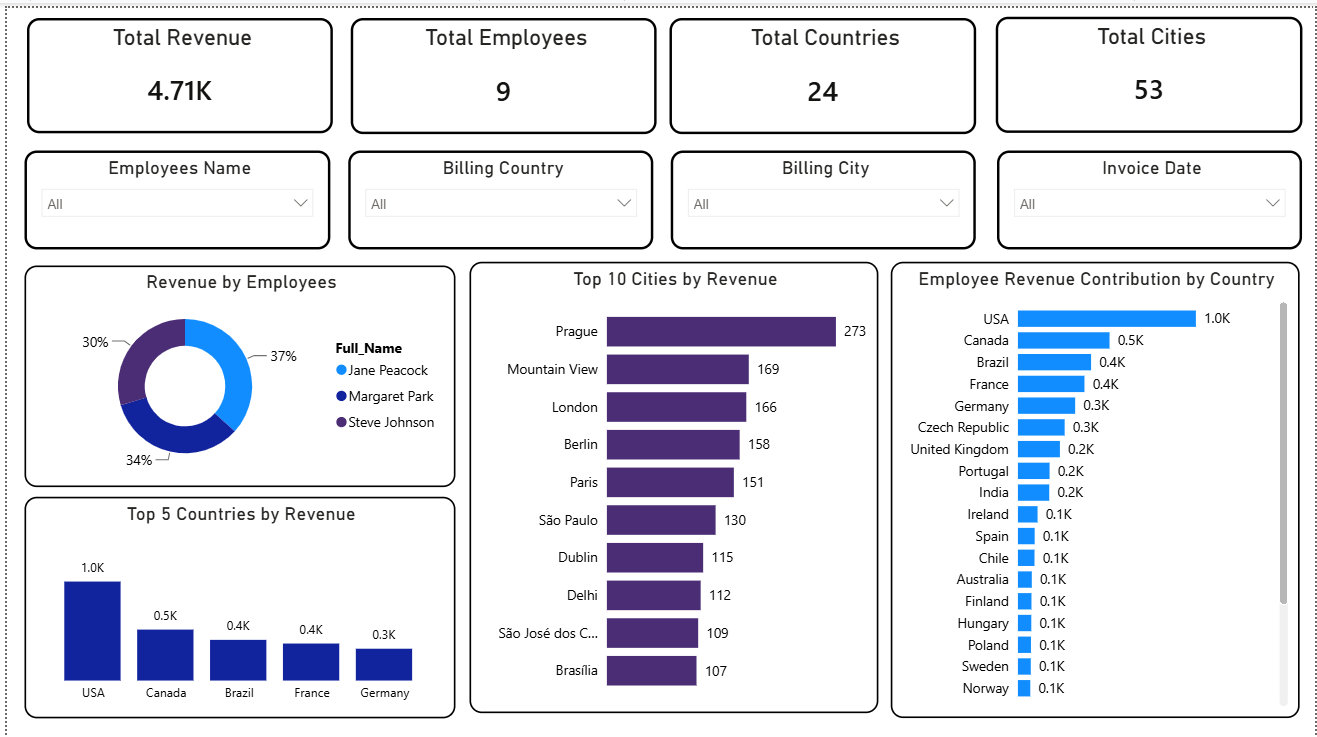

The dashboard page shown, as its layout file describes it:
{"tool":"powerbi","page":{"name":"4. Employee & Geographic Performance","canvas":[1280,720],"ordinal":3},"visuals":[{"type":"cardVisual","title":"Total Revenue","fields":{"Data":["invoice.Total Revenue"]},"box":[19.3,9.2,299.6,112.5],"z":0},{"type":"cardVisual","title":"Total Employees","fields":{"Data":["employee.Total Employees"]},"box":[336,9.2,299.6,113.7],"z":1000},{"type":"cardVisual","title":"Total Countries","fields":{"Data":["invoice.Total Countries"]},"box":[648.4,10.2,300.1,114],"z":2000},{"type":"cardVisual","title":"Total Cities","fields":{"Data":["invoice.Total Cities"]},"box":[967.2,8.8,300.1,114],"z":3000},{"type":"slicer","title":"Billing Country","fields":{"Values":["invoice.billing_country"]},"box":[333.7,139.6,298.7,96.7],"z":4000},{"type":"slicer","title":"Employees Name","fields":{"Values":["employee.Full_Name"]},"box":[17.7,139.6,299,96.7],"z":5000},{"type":"slicer","title":"Billing City","fields":{"Values":["invoice.billing_city"]},"box":[649.6,139.6,298.7,96.7],"z":6000},{"type":"slicer","title":"Invoice Date","fields":{"Values":["invoice.invoice_date"]},"box":[968.5,139.6,298.7,96.7],"z":7000},{"type":"donutChart","title":"Revenue by Employees","fields":{"Category":["employee.Full_Name"],"Y":["invoice.Total Revenue"]},"box":[17.3,252.5,421.3,216.4],"z":8000},{"type":"clusteredColumnChart","title":"Top 5 Countries by Revenue","fields":{"Category":["invoice.billing_country"],"Y":["invoice.Total Revenue"]},"box":[17.3,477.6,421.3,216.4],"z":9000},{"type":"clusteredBarChart","title":"Top 10 Cities by Revenue","fields":{"Category":["invoice.billing_city"],"Y":["invoice.Total Revenue"]},"box":[452.4,248.2,400,441.4],"z":10000},{"type":"clusteredBarChart","title":"Employee Revenue Contribution by Country","fields":{"Category":["invoice.billing_country"],"Y":["invoice.Total Revenue"]},"box":[864.5,248.2,400,446.3],"z":11000}]}

Visuals, with their boxes in screenshot pixels (x1, y1, x2, y2), scaled from the page's 1280x720 canvas onto the 1317x737 screenshot:
"Total Revenue" cardVisual: l=20, t=9, r=328, b=125
"Total Employees" cardVisual: l=346, t=9, r=654, b=126
"Total Countries" cardVisual: l=667, t=10, r=976, b=127
"Total Cities" cardVisual: l=995, t=9, r=1304, b=126
"Billing Country" slicer: l=343, t=143, r=651, b=242
"Employees Name" slicer: l=18, t=143, r=326, b=242
"Billing City" slicer: l=668, t=143, r=976, b=242
"Invoice Date" slicer: l=996, t=143, r=1304, b=242
"Revenue by Employees" donutChart: l=18, t=258, r=451, b=480
"Top 5 Countries by Revenue" clusteredColumnChart: l=18, t=489, r=451, b=710
"Top 10 Cities by Revenue" clusteredBarChart: l=465, t=254, r=877, b=706
"Employee Revenue Contribution by Country" clusteredBarChart: l=889, t=254, r=1301, b=711
